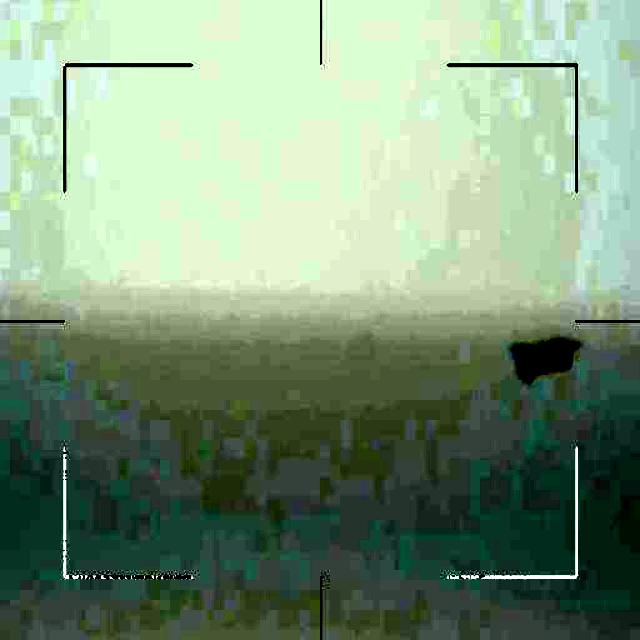bird: (514, 335, 582, 386)
